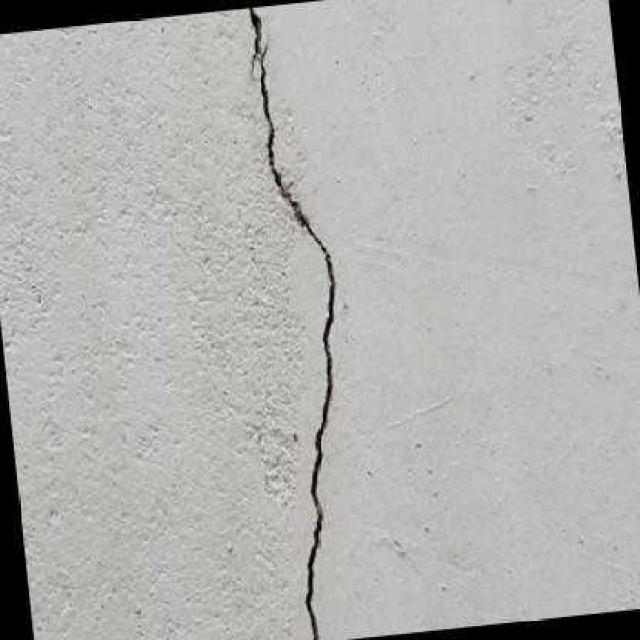D00: (256, 40, 335, 640), (243, 5, 260, 73)
